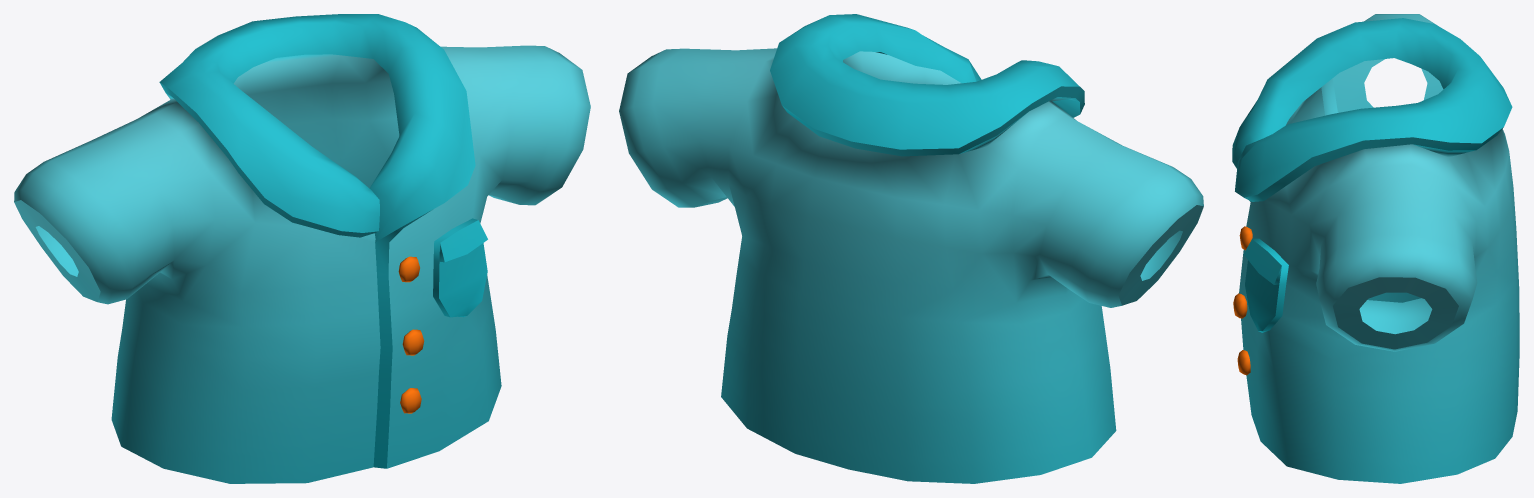
Rendered from Outwear_27.glb.
3 renders of one model, left to right at view 1: azimuth 30°, elevation 25°; view 2: azimuth 150°, elevation 25°; view 3: azimuth 270°, elevation 25°, orthographic. The views are drawn at different scales.
Visible parts, largest first — view 1: Outwear_27; view 2: Outwear_27; view 3: Outwear_27.
Boxes of the visible parts, box(x1,y1,x2,y2) form: Outwear_27: box(14, 14, 590, 483); Outwear_27: box(619, 14, 1203, 483); Outwear_27: box(1232, 14, 1519, 483).
Bounding box in the file's own units: 0.416 × 0.2688 × 0.2026.
Materials: 1 (1 with a texture image).
